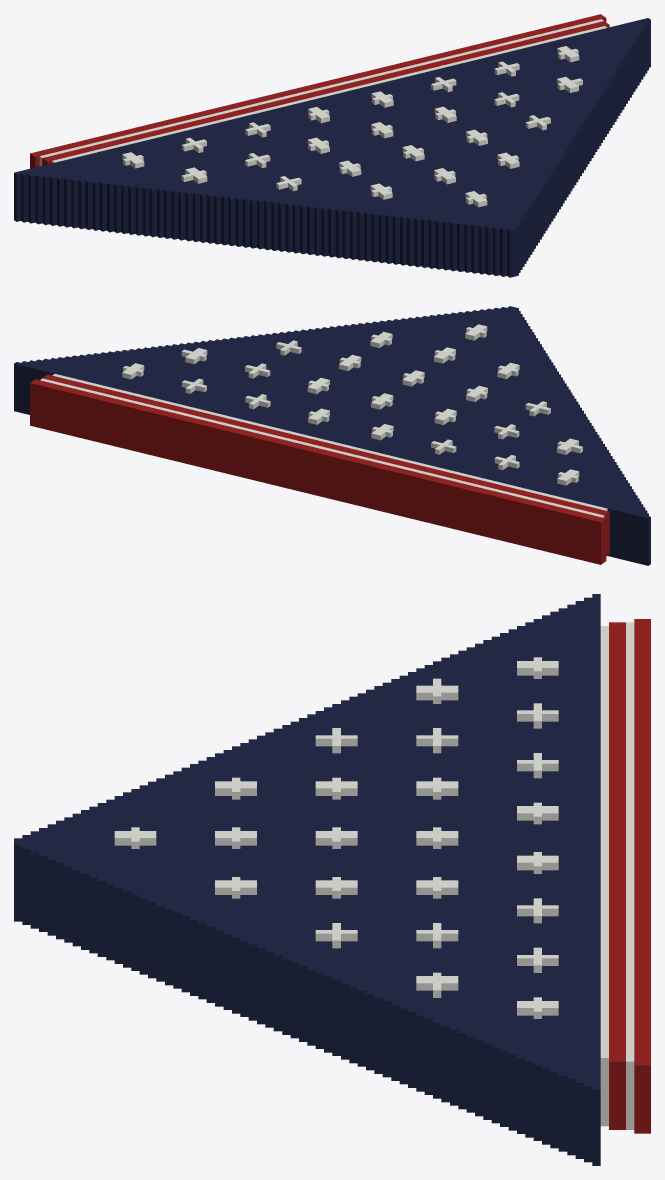
File: american_flag.glb
3 views of the same model, one above another, from view 1: azimuth 30°, elevation 25°; view 2: azimuth 150°, elevation 25°; view 3: azimuth 270°, elevation 25° (orthographic). The views are drawn at different scales.
Visible parts, largest first — view 1: american_flag:compound; view 2: american_flag:compound; view 3: american_flag:compound.
Boxes of the visible parts, <box> form: american_flag:compound: <box>14,14,650,277</box>; american_flag:compound: <box>14,306,650,565</box>; american_flag:compound: <box>14,594,650,1165</box>.
Size of the model in its own units: 0.56 by 0.044 by 0.304.
